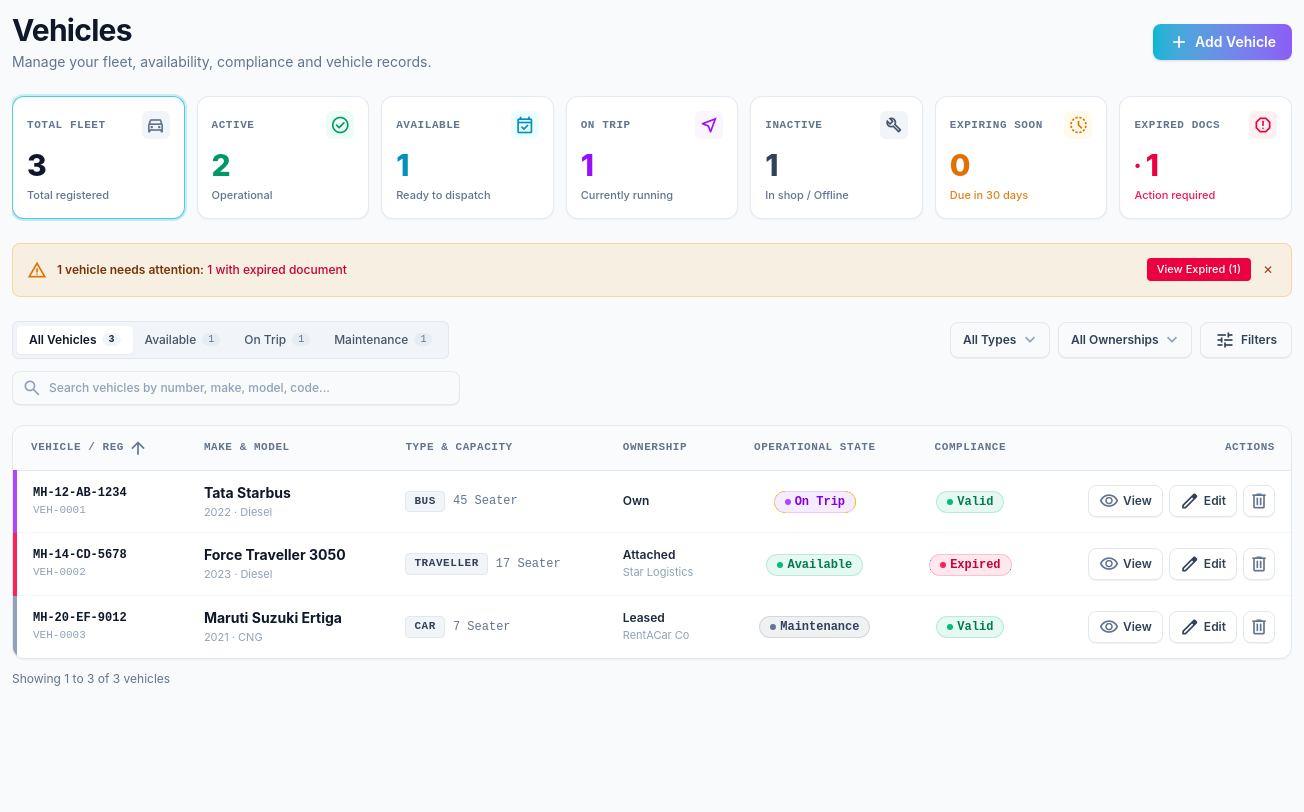
it: VehicleList Component › filters vehicles by search input
The image size is (1304, 812).
Type "Ertiga" into the field labelled "Search vehicles" at (236, 388), box [12,370,460,404]
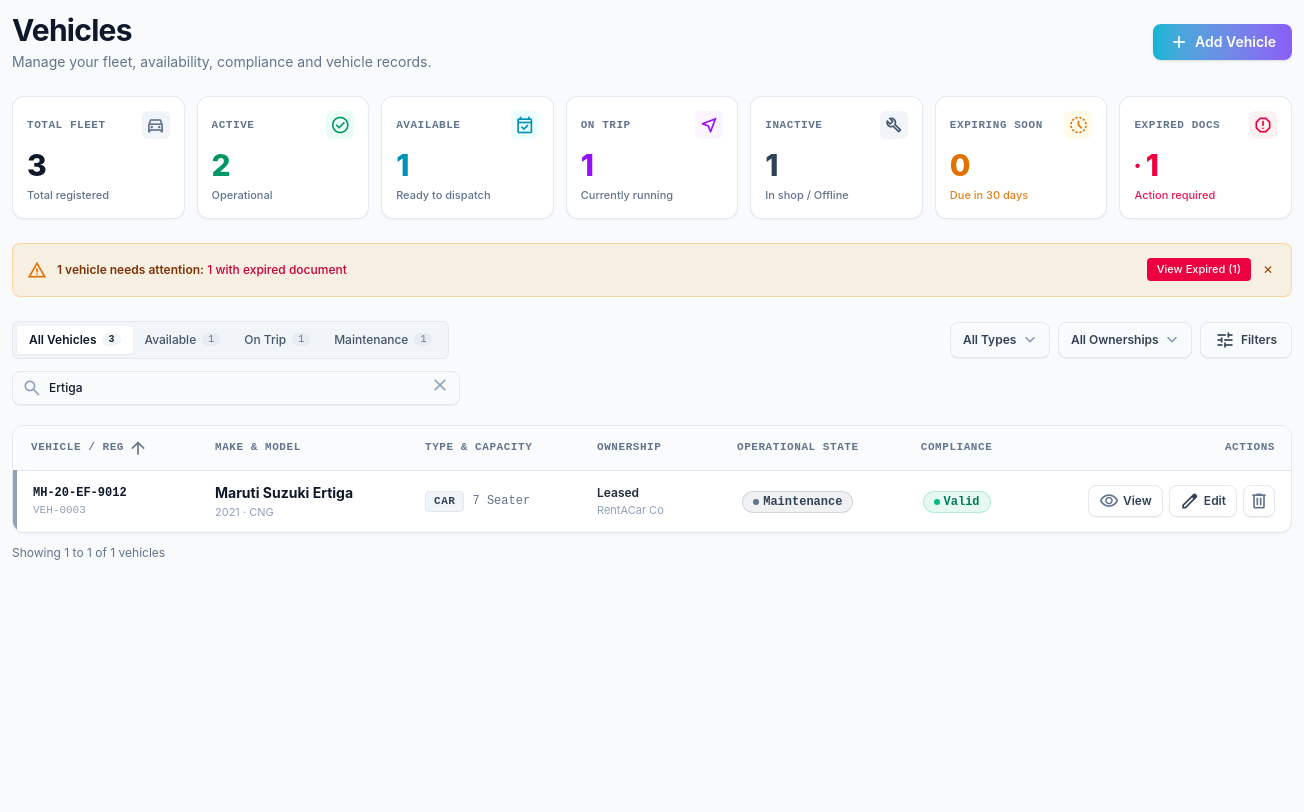
expect the text "MH-12-AB-1234" is gone: met
